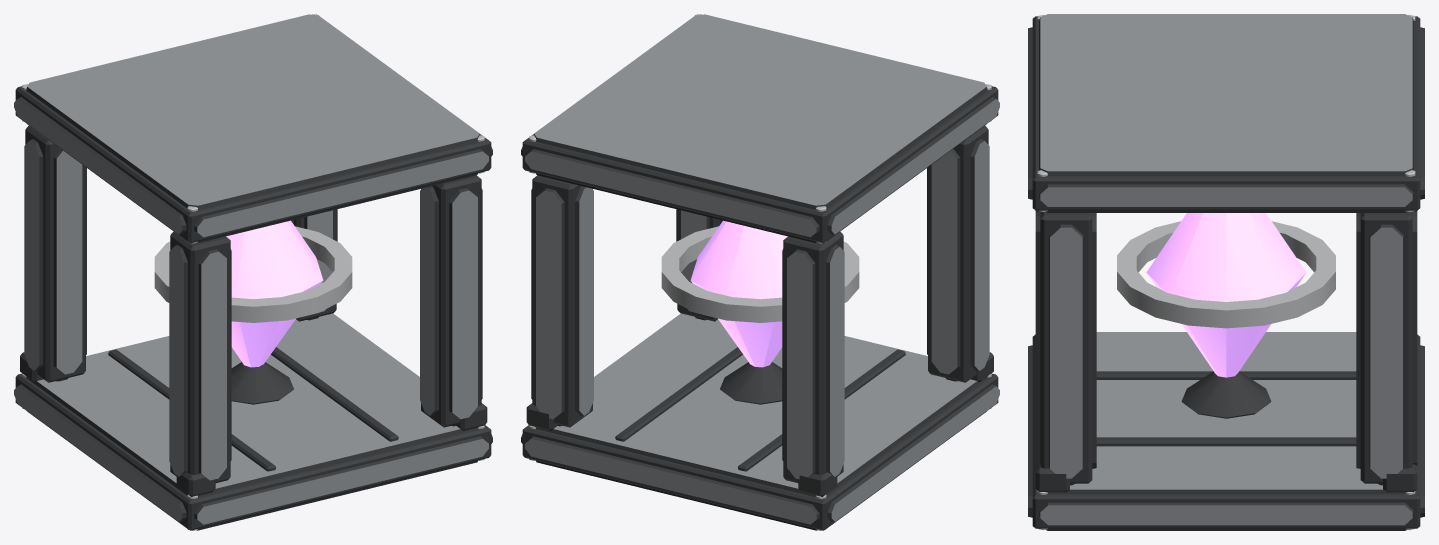
File: R4X_CoreBooster.fbx
3 views of the same model, side by side, from view 1: azimuth 30°, elevation 25°; view 2: azimuth 150°, elevation 25°; view 3: azimuth 270°, elevation 25° (orthographic). The views are drawn at different scales.
Parts seen in each view (by area): view 1: R4X_CoreBooster_Body; view 2: R4X_CoreBooster_Body; view 3: R4X_CoreBooster_Body.
Boxes of the visible parts, x1,y1,x2,y2 form: R4X_CoreBooster_Body: [14, 14, 492, 530]; R4X_CoreBooster_Body: [521, 14, 999, 530]; R4X_CoreBooster_Body: [1028, 14, 1424, 530].
Size of the model in its own units: 0.52 by 0.52 by 0.52.
